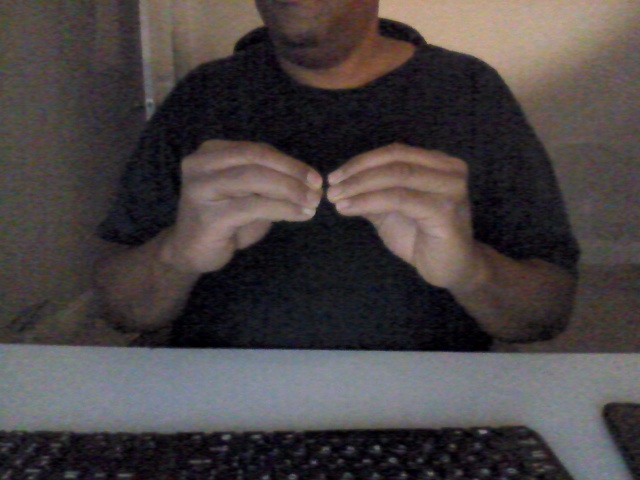more: (169, 130, 481, 290)
